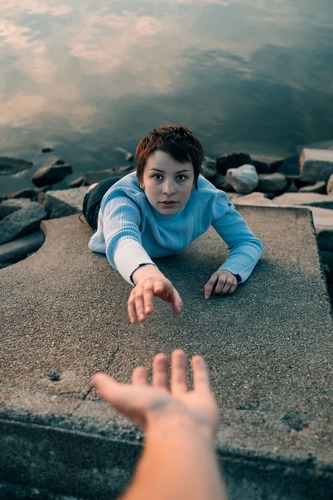without_mask: (148, 158, 190, 213)
